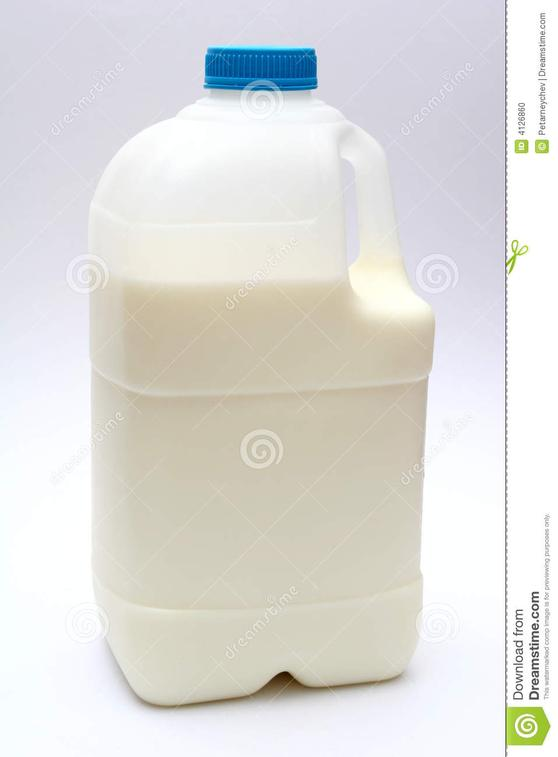milk: (87, 42, 434, 708)
